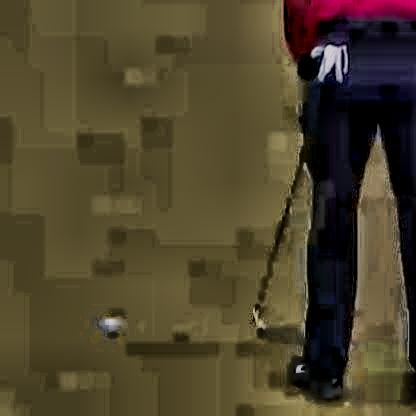golfball: (98, 314, 120, 334)
